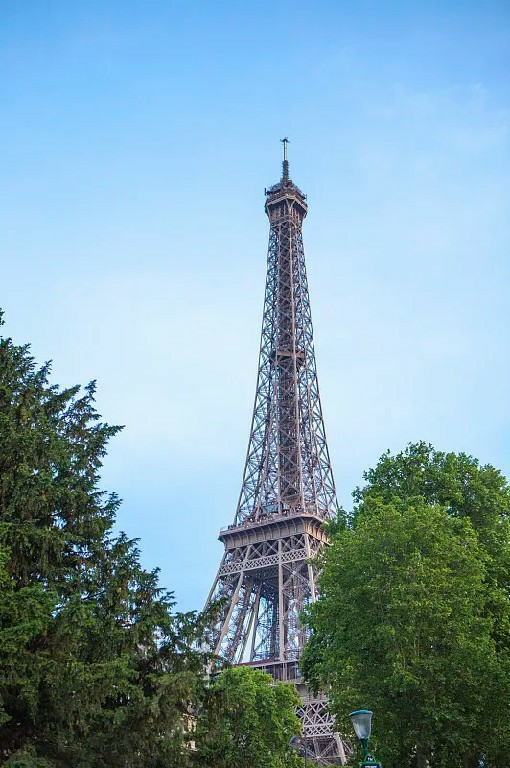Eiffel: (186, 137, 352, 768)
